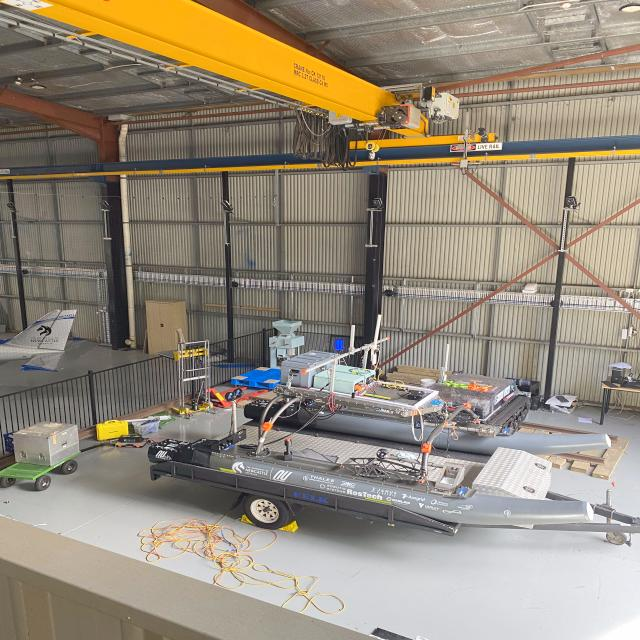matrix: (334, 339, 344, 351)
